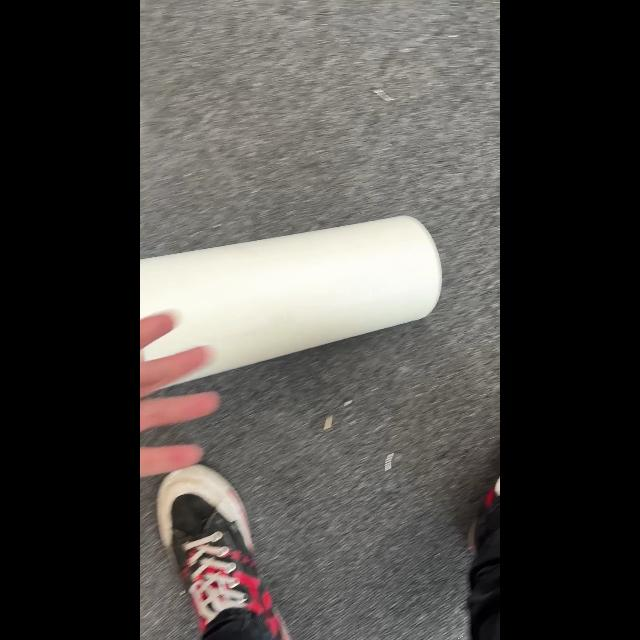CORAL: (141, 213, 443, 393)
